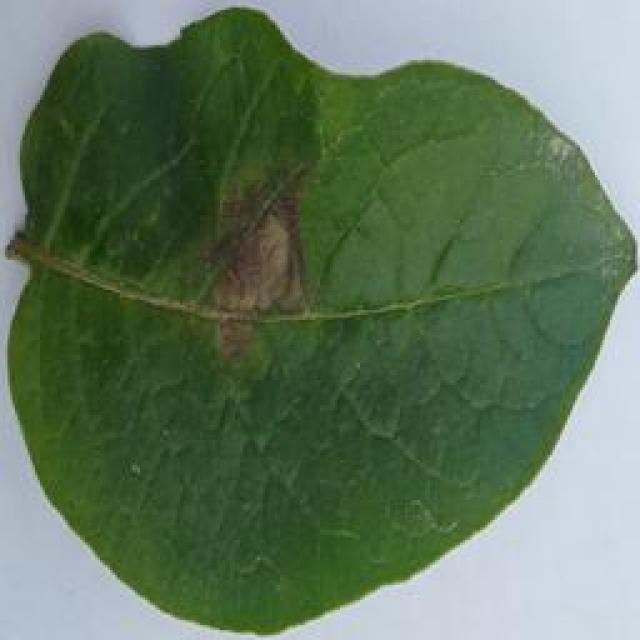Potato_Late_Blight: (10, 9, 628, 637)
